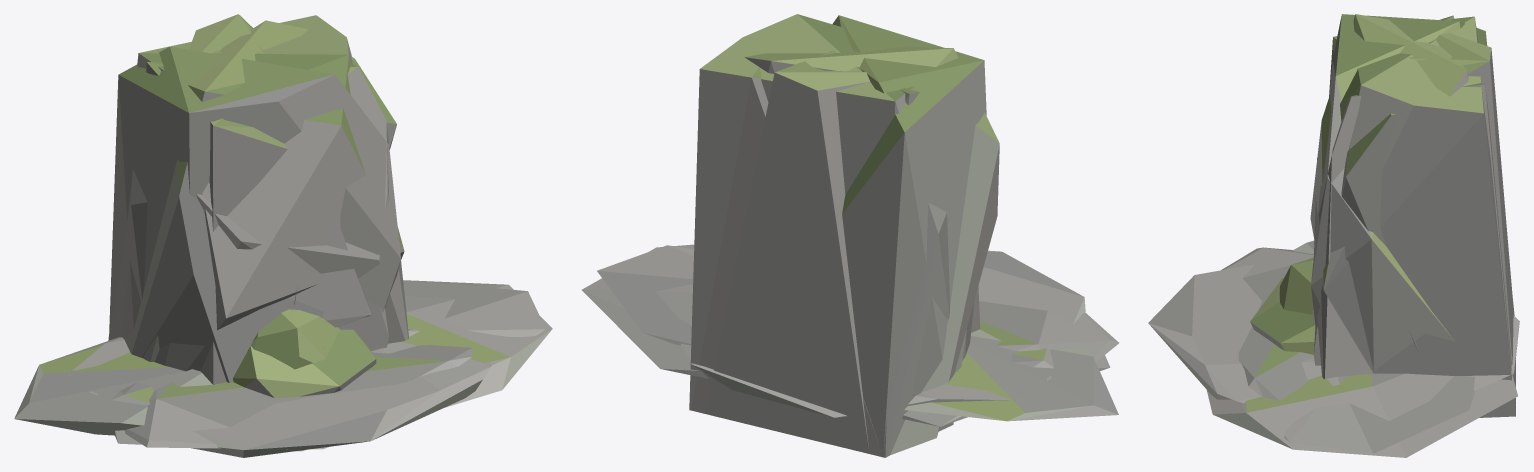
File: nature.glb
3 views of the same model, side by side, from view 1: azimuth 30°, elevation 25°; view 2: azimuth 150°, elevation 25°; view 3: azimuth 270°, elevation 25° (orthographic). The views are drawn at different scales.
Visible parts, largest first — view 1: CliffRock1, CliffRock4, CliffRock5, Slab1, Slab3, Slab0, CliffRock0, Slab2, CliffRock2, MossBoulder0, MossBoulder1, CliffRock3; view 2: CliffRock0, CliffRock1, CliffRock4, Slab1, CliffRock5, Slab3, CliffRock2, Slab2, Slab0; view 3: CliffRock4, CliffRock1, Slab2, Slab3, Slab1, CliffRock5, Slab0, CliffRock2, CliffRock0, MossBoulder0, MossBoulder1.
Boxes of the visible parts, x1,y1,x2,y2 form: CliffRock1: (109, 46, 400, 361); CliffRock4: (108, 15, 404, 371); CliffRock5: (125, 20, 396, 382); Slab1: (14, 280, 545, 435); Slab3: (68, 337, 491, 457); Slab0: (125, 345, 472, 449); CliffRock0: (189, 14, 388, 384); Slab2: (111, 280, 552, 451); CliffRock2: (196, 64, 408, 343); MossBoulder0: (233, 329, 376, 398); MossBoulder1: (251, 309, 340, 369); CliffRock3: (146, 62, 371, 327); CliffRock0: (705, 50, 980, 453); CliffRock1: (832, 15, 986, 455); CliffRock4: (689, 14, 974, 457); Slab1: (597, 245, 1118, 421); CliffRock5: (744, 46, 999, 455); Slab3: (680, 250, 1085, 417); CliffRock2: (691, 67, 883, 457); Slab2: (582, 244, 1110, 426); Slab0: (979, 301, 1118, 361); CliffRock4: (1310, 16, 1515, 417); CliffRock1: (1311, 14, 1514, 370); Slab2: (1206, 373, 1517, 457); Slab3: (1148, 264, 1519, 403); Slab1: (1284, 240, 1474, 453); CliffRock5: (1341, 14, 1468, 374); Slab0: (1221, 247, 1313, 400); CliffRock2: (1314, 83, 1515, 415); CliffRock0: (1313, 33, 1515, 408); MossBoulder0: (1250, 278, 1315, 354); MossBoulder1: (1279, 257, 1313, 314).
Size of the model in its own units: 8.11 by 5.15 by 5.27.
